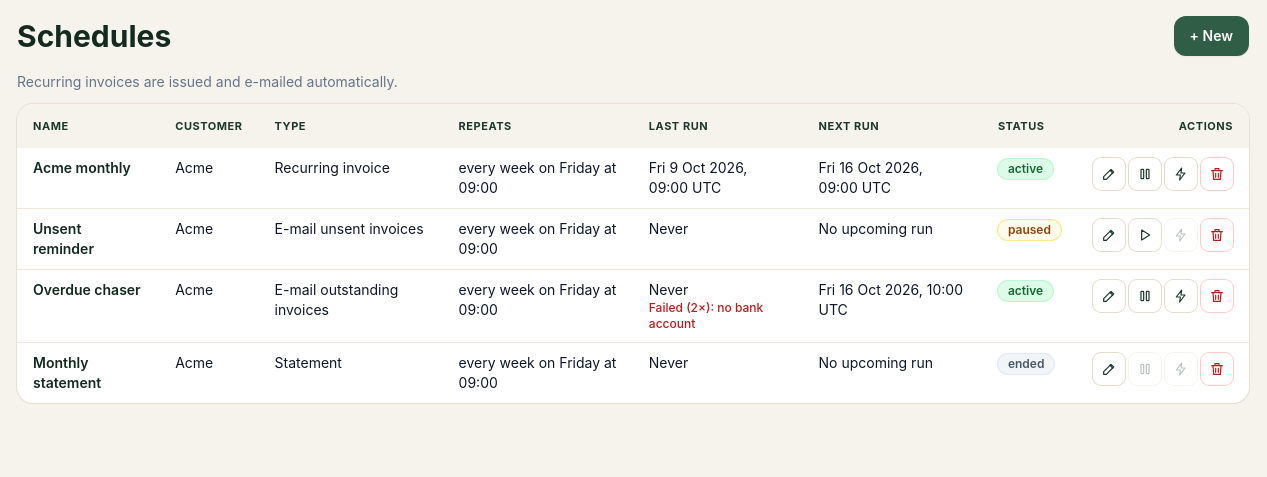
pause and resume toggle the schedule and refresh the list
Click the button named "Pause Acme monthly". click: (1145, 174)
box: [1129,158,1161,190]
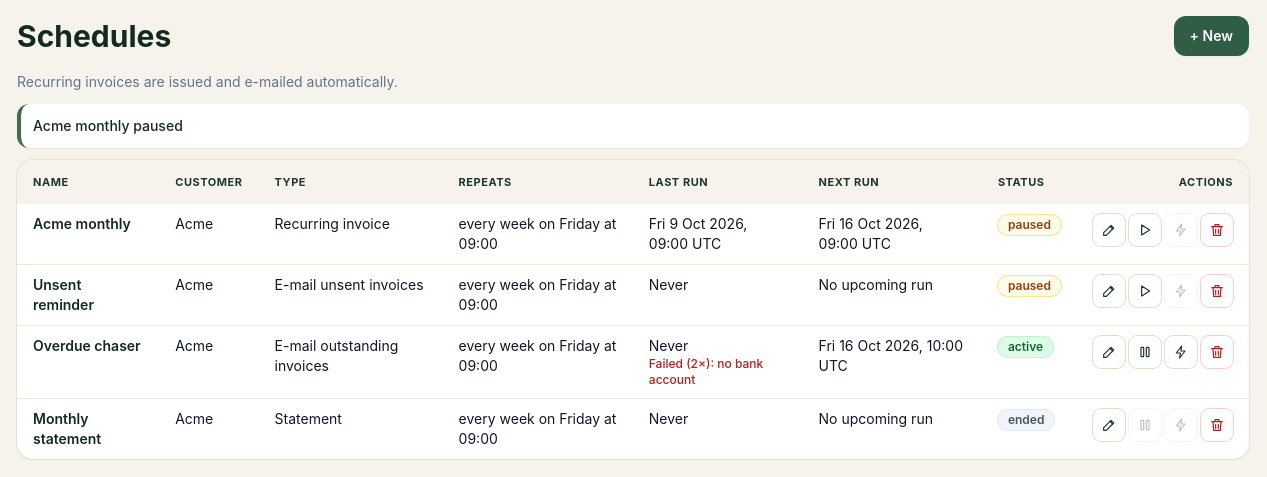
Now the message reads "Acme monthly paused", box [33,117,183,134]
Now the text "paused" in the row of "Fri 9 Oct 2026, 09:00 UTC" is shown, box [1008,217,1051,232]
Click the button named "Resume Acme monthly". click: (1145, 230)
box: [1129,214,1161,246]
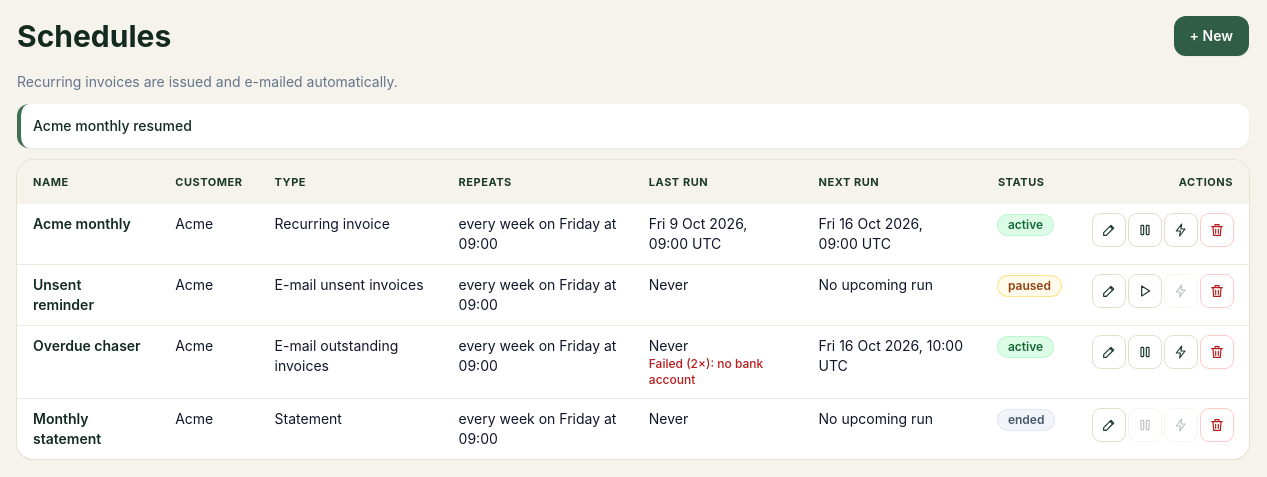
Now the text "Acme monthly resumed" is shown, box [17,104,1249,148]
